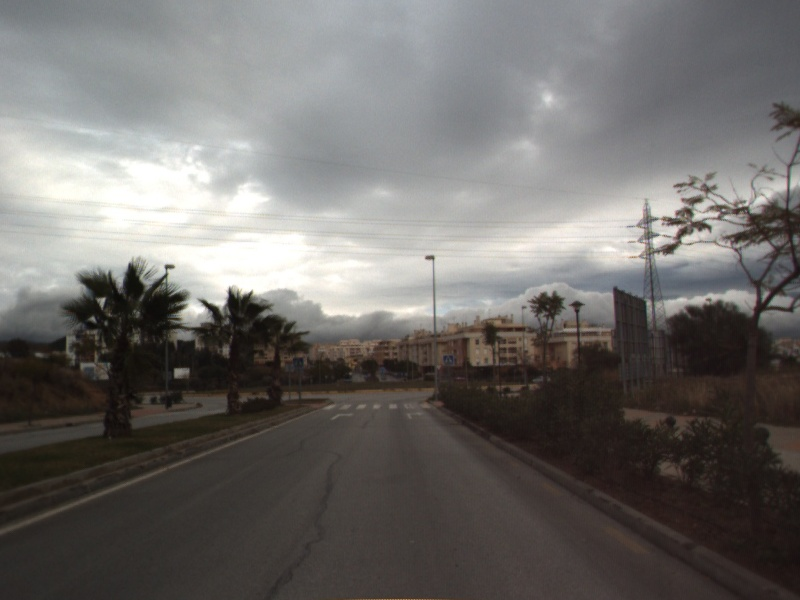RIGHT: (329, 410, 356, 422), (405, 410, 426, 421)
